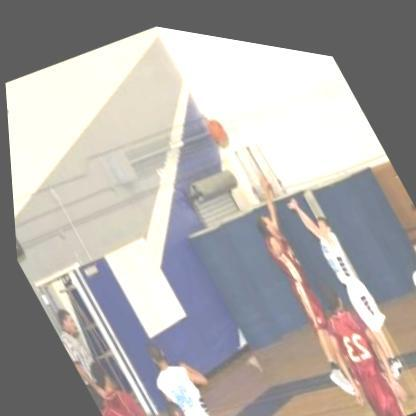basketball: (195, 100, 239, 150)
